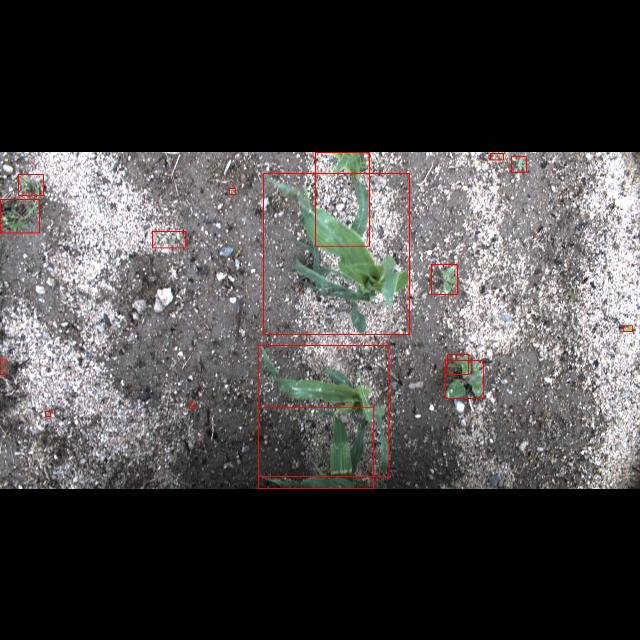crop: (263, 172, 409, 334), (257, 344, 388, 476), (258, 406, 374, 488), (316, 151, 370, 245)
weed: (445, 360, 483, 398), (1, 198, 40, 232), (431, 264, 457, 294), (152, 230, 185, 248), (18, 173, 44, 194), (448, 354, 468, 374), (512, 156, 526, 170), (1, 360, 8, 374), (490, 153, 504, 159), (229, 187, 235, 193), (624, 326, 632, 330), (190, 402, 194, 408), (46, 410, 50, 416)
